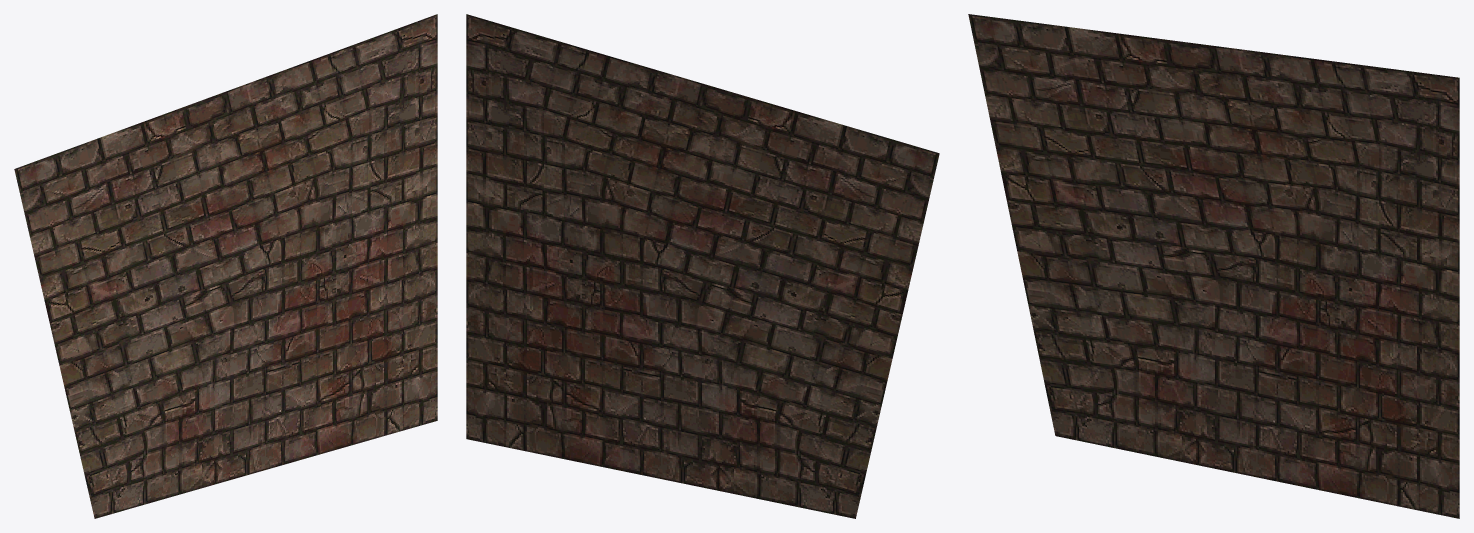
The model's file is Paresita.fbx.
The picture shows the model from 3 angles, left to right: view 1: azimuth 30°, elevation 25°; view 2: azimuth 150°, elevation 25°; view 3: azimuth 330°, elevation 25°; orthographic projection. The views are drawn at different scales.
Parts seen in each view (by area): view 1: Plane.005; view 2: Plane.005; view 3: Plane.005.
Part boxes in pixels (x1,y1,x2,y2): Plane.005: (14,14,437,518); Plane.005: (466,14,939,518); Plane.005: (968,14,1459,518).
Bounding box in the file's own units: 260 × 230 × 15.26.
1 material, 1 textured.
